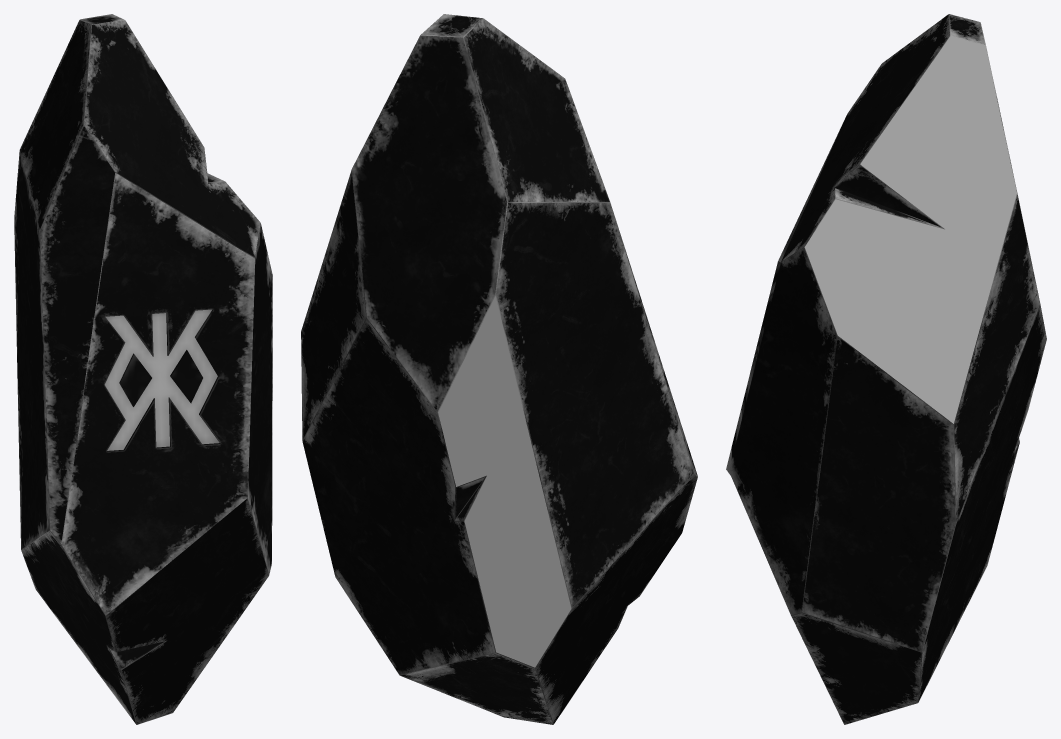
3 renders of one model, left to right at view 1: azimuth 30°, elevation 25°; view 2: azimuth 150°, elevation 25°; view 3: azimuth 270°, elevation 25°, orthographic. The views are drawn at different scales.
Visible parts, largest first — view 1: Crystal.001; view 2: Crystal.001; view 3: Crystal.001.
Boxes of the visible parts, x1=… form: Crystal.001: x1=14, y1=14, x2=272, y2=724; Crystal.001: x1=301, y1=14, x2=697, y2=724; Crystal.001: x1=726, y1=14, x2=1046, y2=724.
Size of the model in its own units: 1.19 by 2.76 by 1.15.
1 material, 1 textured.
